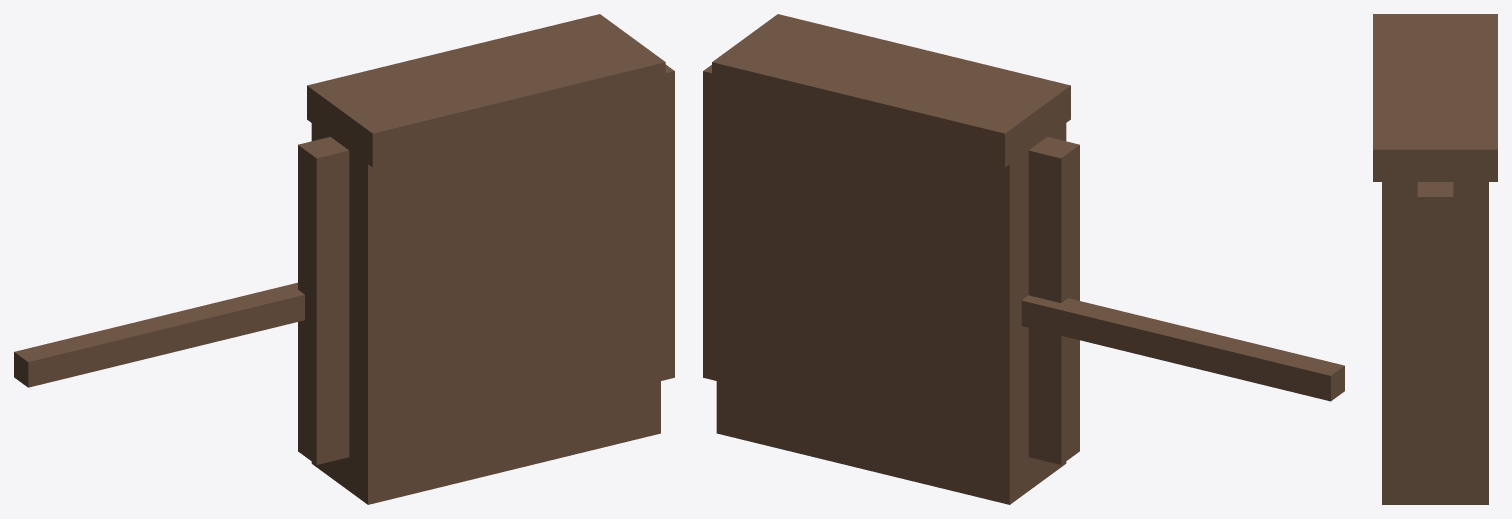
The model's file is unisex_crossbody_bag.glb.
The picture shows the model from 3 angles, left to right: view 1: azimuth 30°, elevation 25°; view 2: azimuth 150°, elevation 25°; view 3: azimuth 270°, elevation 25°; orthographic projection. The views are drawn at different scales.
Parts seen in each view (by area): view 1: CrossbodyBag; view 2: CrossbodyBag; view 3: CrossbodyBag.
Part boxes in pixels (bbox=[...]): CrossbodyBag: bbox=[14, 14, 674, 504]; CrossbodyBag: bbox=[703, 14, 1344, 504]; CrossbodyBag: bbox=[1373, 14, 1497, 504].
Bounding box in the file's own units: 0.39 × 0.22 × 0.07.
